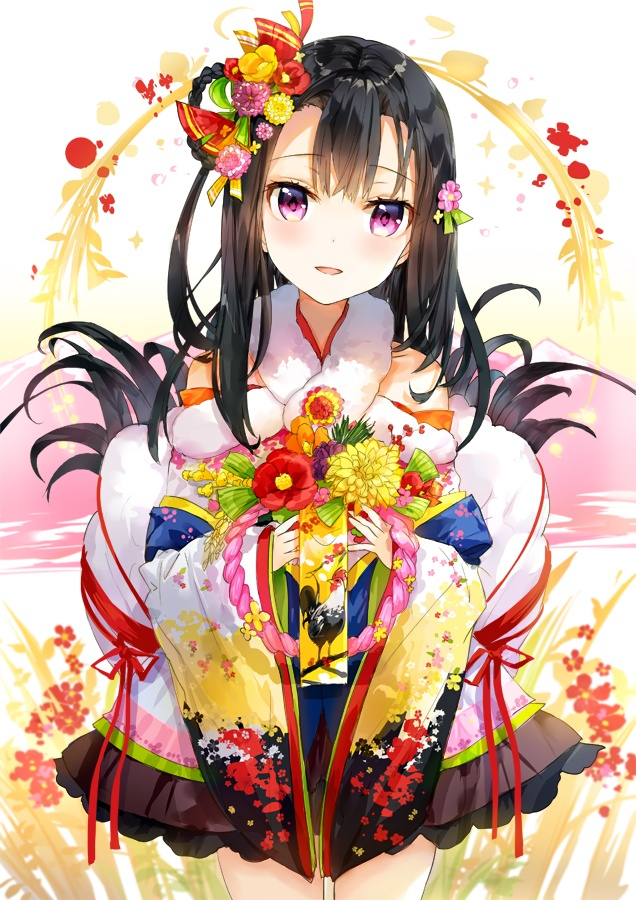纸片人正脸: (231, 41, 464, 309)
